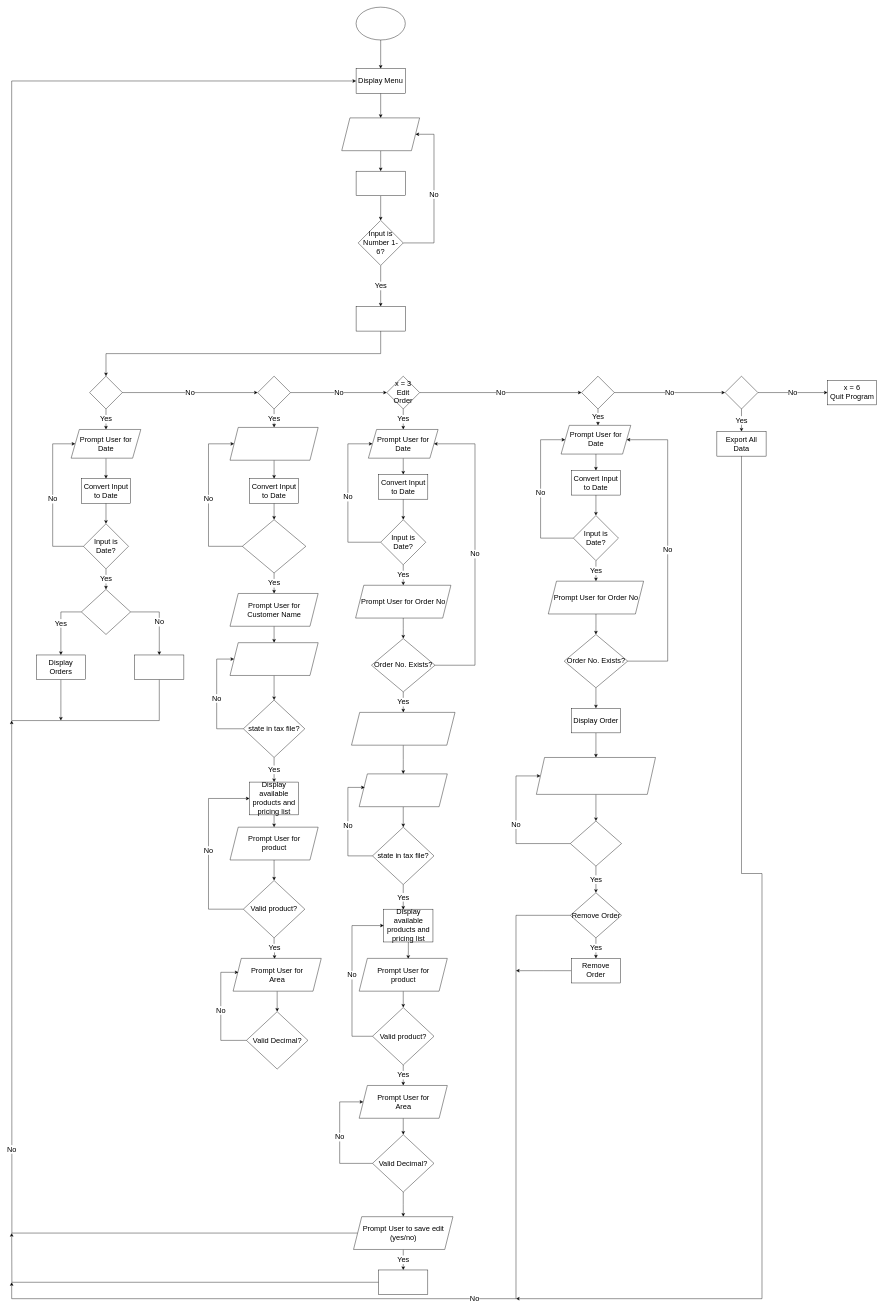
The diagram is 884 pixels wide and 1310 high, and some of its shapes have lost their labels. Here are the shapes that lost their labels. From the top down, the centre of each, then its label:
At point (380, 23): "Start".
At point (380, 134): "Prompt User Menu Input".
At point (380, 183): "Convert Input to Number".
At point (380, 318): "Check User Input Case".
At point (105, 392): "x = 1 display orders".
At point (273, 392): "x = 2 Add Order".
At point (597, 392): "x = 4 Remove Order".
At point (741, 392): "x = 5".
At point (274, 443): "Prompt User for Order Date".
At point (274, 546): "Input is Future Date?".
At point (106, 611): "Date has orders?".
At point (159, 667): "Display Error".
At point (274, 658): "Prompt User for State".
At point (403, 728): "Prompt User for Customer Name while displaying previous name".
At point (403, 790): "Prompt User for State while displaying previous state".
At point (596, 775): "Prompt User to Remove order or not".
At point (596, 843): "Valid input".
At point (403, 1282): "Replace Data".
